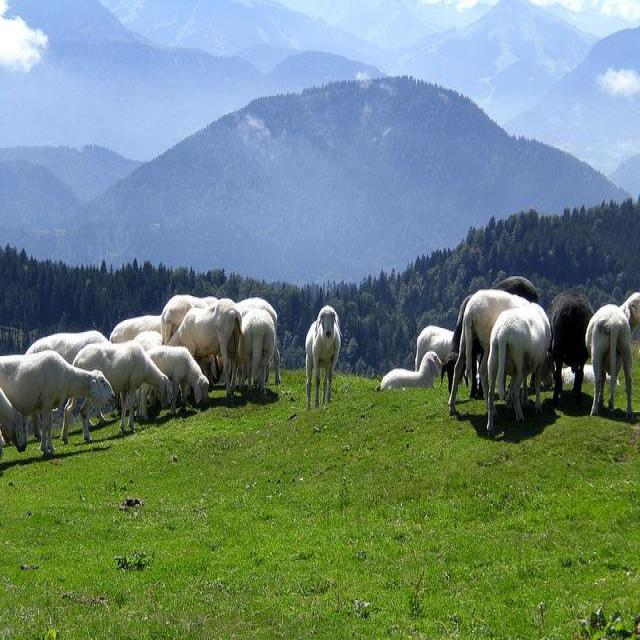Sheep: (0, 349, 116, 455), (61, 340, 169, 443), (448, 291, 531, 417), (486, 304, 554, 440), (165, 297, 243, 399), (585, 292, 639, 424), (547, 288, 597, 409), (145, 344, 210, 415), (305, 306, 343, 410), (416, 324, 479, 385), (236, 309, 279, 396), (380, 349, 444, 394)
